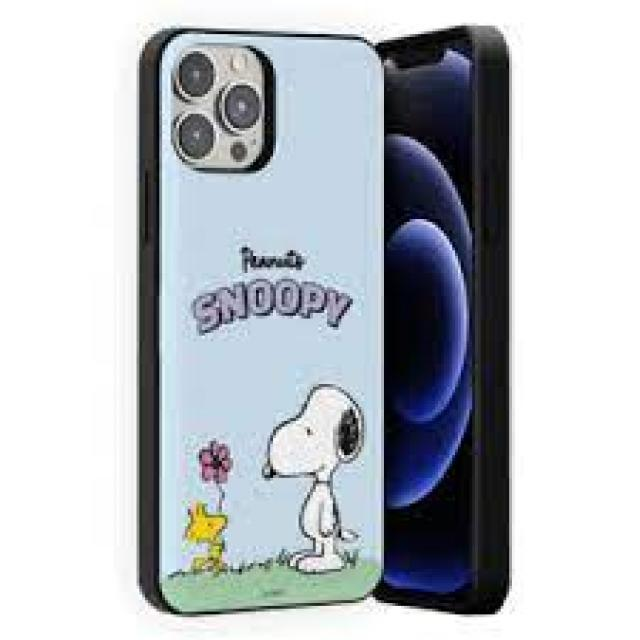phone: (134, 23, 388, 618), (373, 21, 521, 621)
